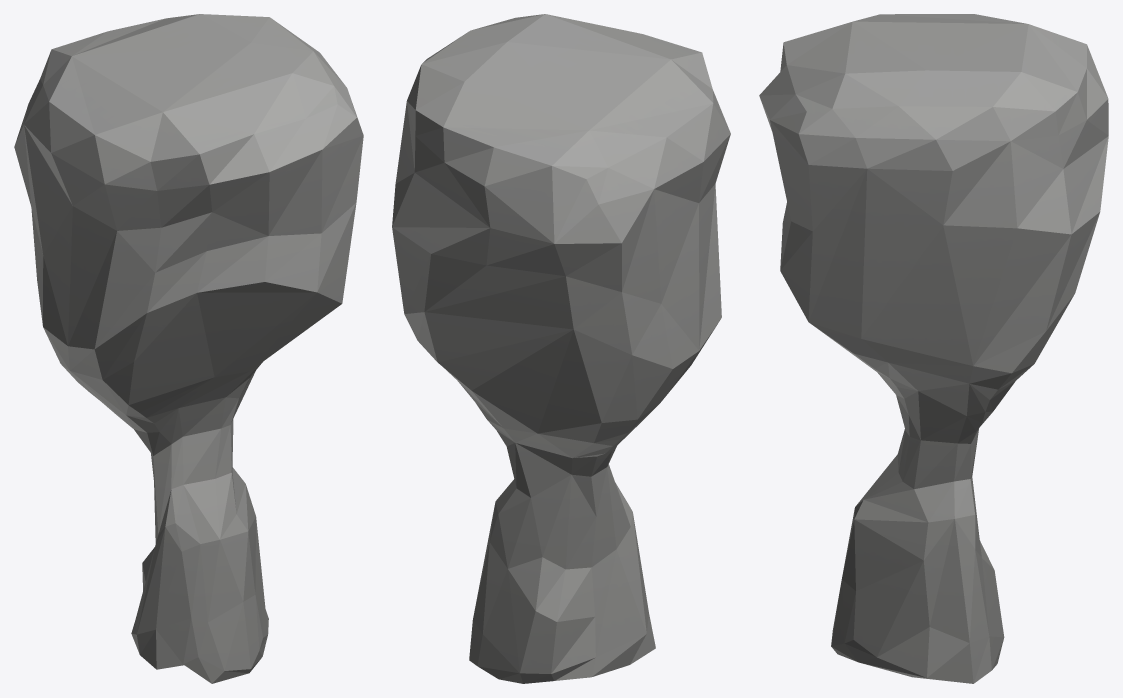
File: Cavern_Pillar-02.fbx
The picture shows the model from 3 angles, left to right: view 1: azimuth 30°, elevation 25°; view 2: azimuth 150°, elevation 25°; view 3: azimuth 270°, elevation 25°; orthographic projection. The views are drawn at different scales.
Parts seen in each view (by area): view 1: Cavern_Pillar-02; view 2: Cavern_Pillar-02; view 3: Cavern_Pillar-02.
Boxes of the visible parts, x1,y1,x2,y2 form: Cavern_Pillar-02: [14, 14, 363, 683]; Cavern_Pillar-02: [392, 14, 730, 683]; Cavern_Pillar-02: [759, 14, 1108, 683].
Bounding box in the file's own units: 561 × 1177 × 606.
1 material, 1 textured.
